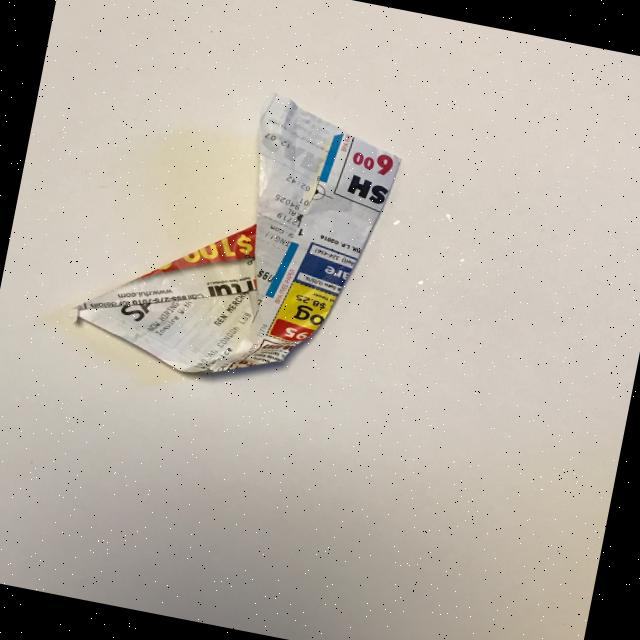paper: (63, 61, 410, 406)
